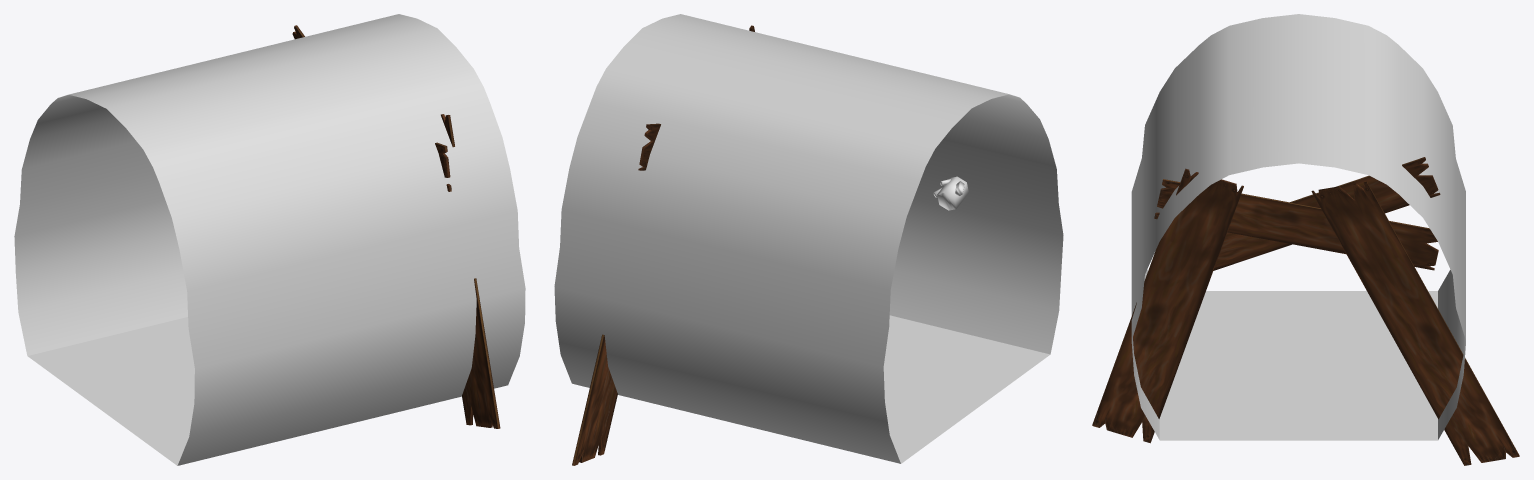
Rendered from Segunda parte(Dividida).fbx.
3 views of the same model, side by side, from view 1: azimuth 30°, elevation 25°; view 2: azimuth 150°, elevation 25°; view 3: azimuth 270°, elevation 25° (orthographic). The views are drawn at different scales.
Parts seen in each view (by area): view 1: Plane, Plane.004, Plane.003; view 2: Plane, Plane.004, Plane.003, Cube.005; view 3: Plane, Plane.004, Plane.003, Plane.001, Plane.002.
Part boxes in pixels (x1,y1,x2,y2): Plane: (14, 14, 525, 465); Plane.004: (27, 317, 194, 465); Plane.003: (441, 114, 500, 428); Plane: (554, 14, 1063, 463); Plane.004: (883, 315, 1050, 463); Plane.003: (572, 25, 754, 465); Cube.005: (933, 176, 968, 210); Plane: (1131, 14, 1465, 439); Plane.004: (1159, 291, 1437, 440); Plane.003: (1092, 168, 1519, 465); Plane.001: (1154, 179, 1438, 270); Plane.002: (1213, 157, 1440, 270).
Bounding box in the file's own units: 1644 × 1643 × 1962.
